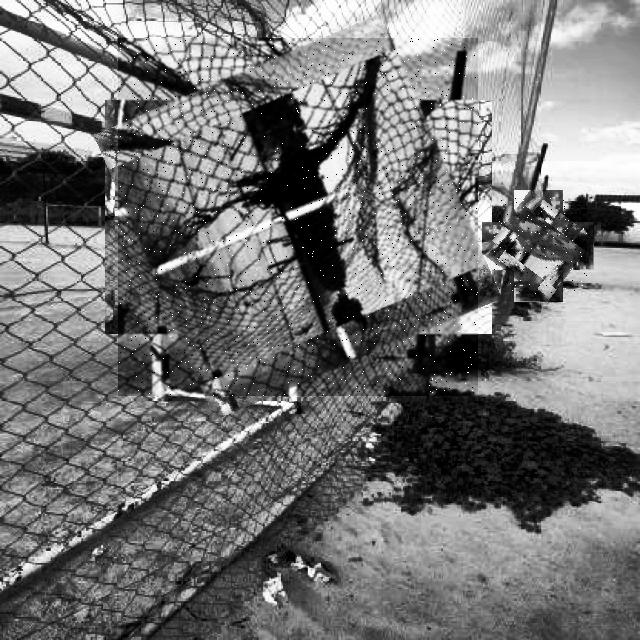anomaly-fence: (118, 38, 478, 396), (490, 198, 587, 294)
